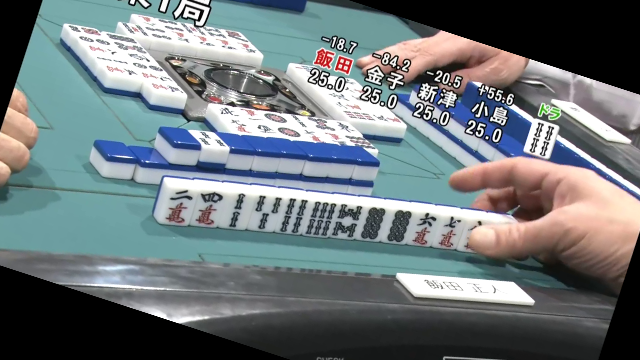Tehai: (156, 173, 543, 257)
